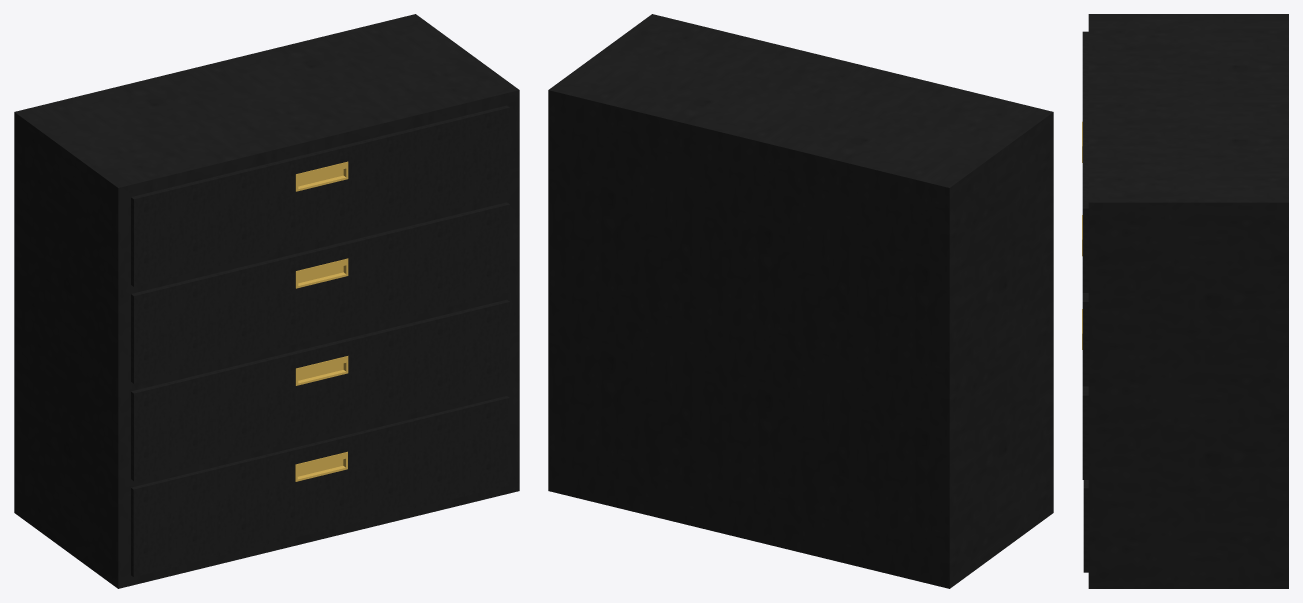
File: Drawer17.fbx
3 renders of one model, left to right at view 1: azimuth 30°, elevation 25°; view 2: azimuth 150°, elevation 25°; view 3: azimuth 270°, elevation 25°, orthographic. The views are drawn at different scales.
Parts seen in each view (by area): view 1: Drawer17_Body, Drawer17_1, Drawer17_3, Drawer17_2, Drawer17_4; view 2: Drawer17_Body; view 3: Drawer17_Body, Drawer17_1, Drawer17_2, Drawer17_3, Drawer17_4.
Part boxes in pixels (bbox=[...]): Drawer17_Body: bbox=[14, 14, 519, 588]; Drawer17_1: bbox=[131, 105, 509, 286]; Drawer17_3: bbox=[131, 299, 509, 480]; Drawer17_2: bbox=[131, 202, 509, 383]; Drawer17_4: bbox=[131, 396, 509, 576]; Drawer17_Body: bbox=[548, 14, 1053, 588]; Drawer17_Body: bbox=[1088, 14, 1288, 588]; Drawer17_1: bbox=[1082, 31, 1088, 292]; Drawer17_2: bbox=[1082, 215, 1088, 386]; Drawer17_3: bbox=[1082, 309, 1088, 479]; Drawer17_4: bbox=[1083, 480, 1088, 572].
Bounding box in the file's own units: 84.51 × 80.66 × 39.12.
